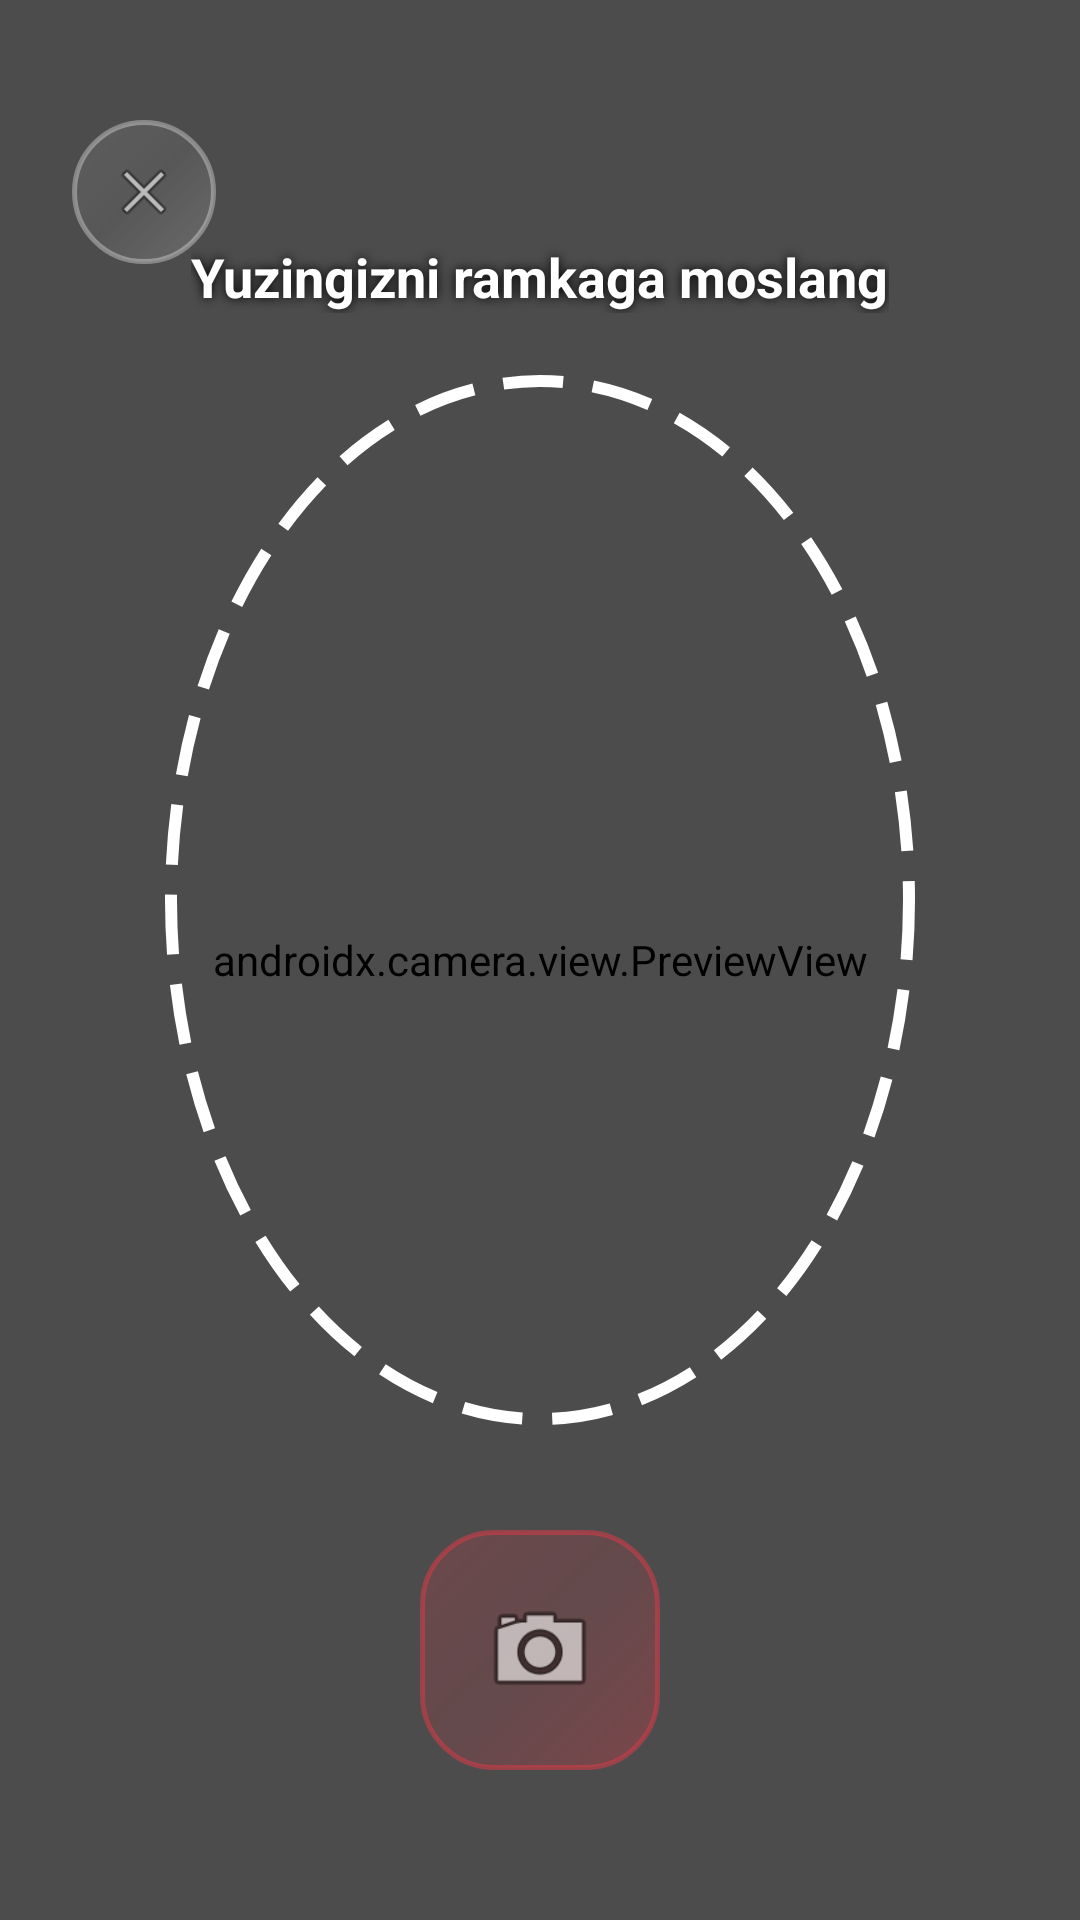

Locate icon controls on the screen. Image size 1080 x 1920, boxes as bbox=(x1, y1, x2, y2).
close clear cancel: bbox=(72, 120, 216, 264)
